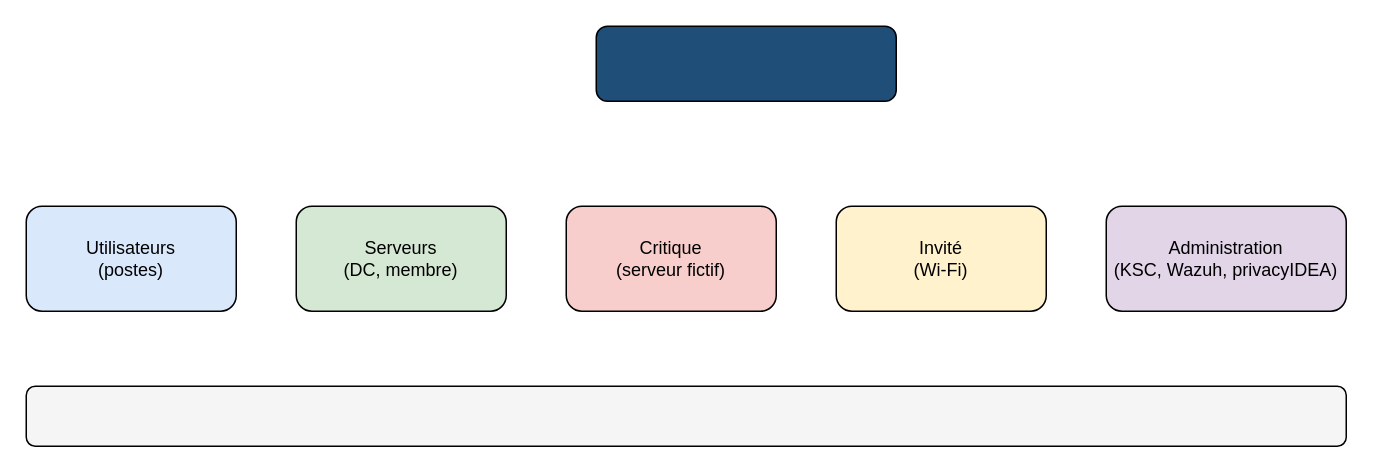
Some shapes in this 1373 by 473 pixel diagram are drawn without their labels. Here are the shapes that lost their labels. From the top down, the centre of each, then its label:
At [745,63]: "Pare-feu / USG".
At [685,415]: "Poste attaquant (KALI) : placé tour à tour dans Utilisateurs et Invité".
